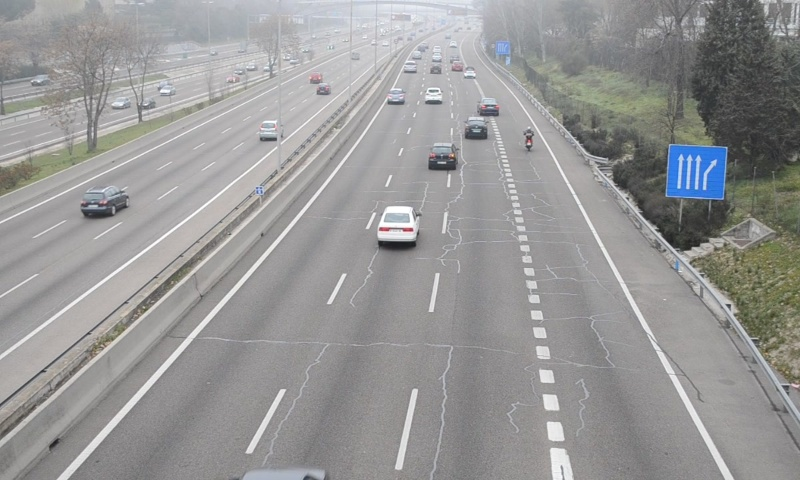car: (378, 206, 420, 242), (428, 143, 458, 171), (464, 116, 488, 139), (478, 97, 500, 116), (424, 86, 444, 104), (386, 88, 404, 104)
motorcycle: (524, 127, 536, 153)
